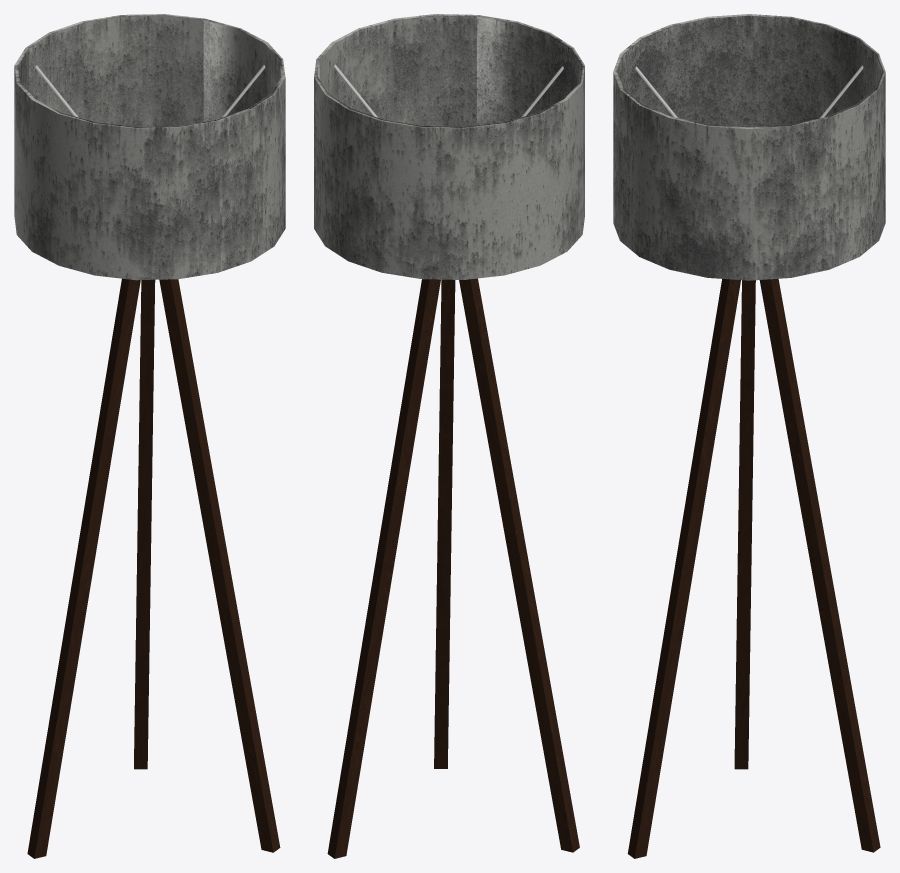
Rendered from modern_lamp.glb.
3 renders of one model, left to right at view 1: azimuth 30°, elevation 25°; view 2: azimuth 150°, elevation 25°; view 3: azimuth 270°, elevation 25°, orthographic.
Parts seen in each view (by area): view 1: Lamp1 (×4); view 2: Lamp1 (×4); view 3: Lamp1 (×4).
Boxes of the visible parts, bbox=[...] form: Lamp1 (×4): bbox=[14, 14, 285, 858]; Lamp1 (×4): bbox=[314, 14, 584, 858]; Lamp1 (×4): bbox=[613, 14, 885, 858].
Size of the model in its own units: 62.28 by 186 by 60.96.
5 materials, 5 textured.
